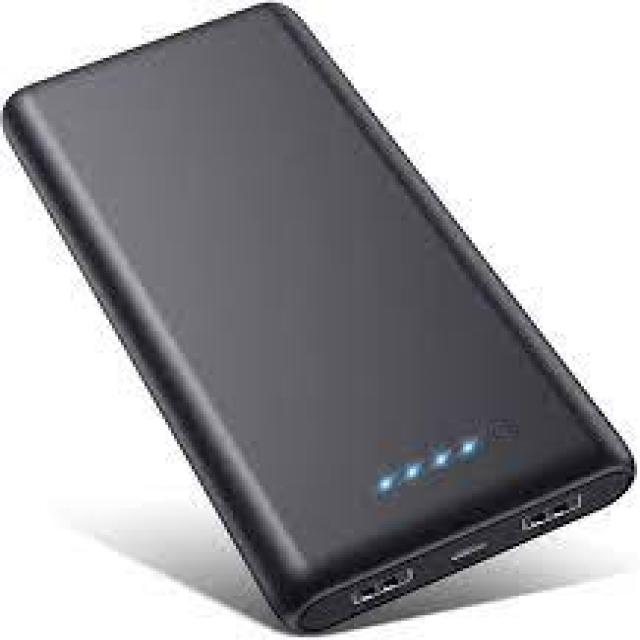portable-charger: (7, 2, 635, 640)
